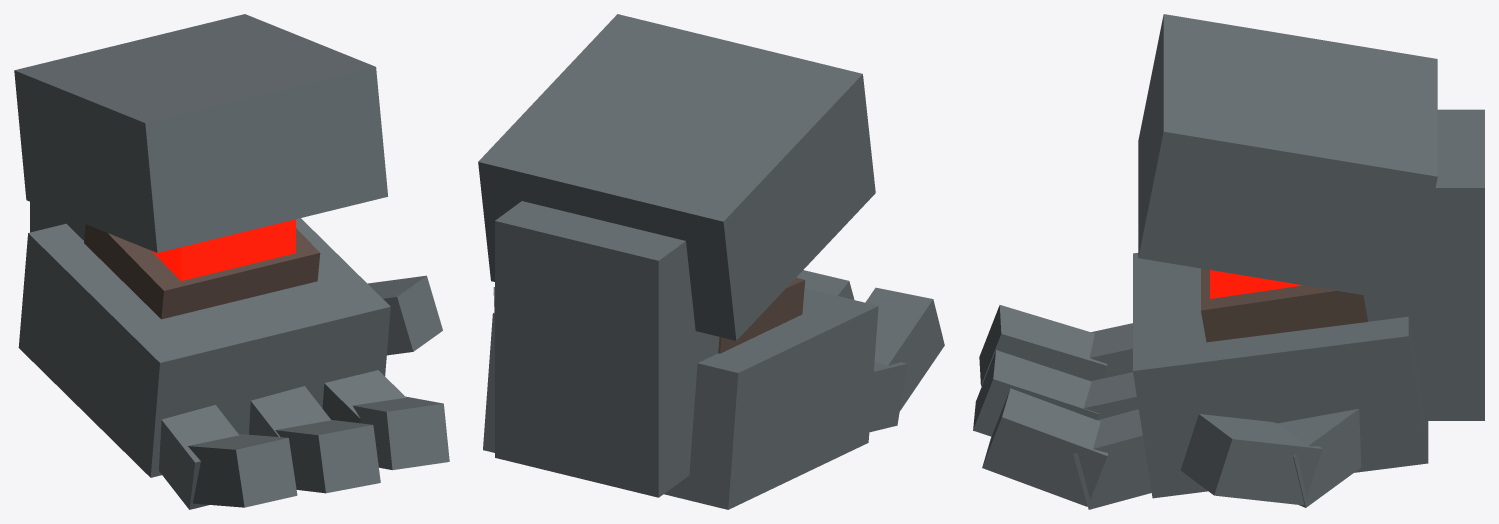
Rendered from shellhand.glb.
3 views of the same model, side by side, from view 1: azimuth 30°, elevation 25°; view 2: azimuth 150°, elevation 25°; view 3: azimuth 270°, elevation 25° (orthographic). The views are drawn at different scales.
Visible parts, largest first — view 1: Cube, Cube.002, Cube.003, Cube.009, Cube.013, Cube.007, Cube.001, Cube.008, Cube.011, Cube.012, Cube.006, Cube.005; view 2: Cube, Cube.005, Cube.002, Cube.009, Cube.008, Cube.003, Cube.013; view 3: Cube, Cube.002, Cube.005, Cube.011, Cube.007, Cube.003, Cube.009, Cube.013, Cube.006, Cube.010, Cube.012, Cube.008 (+1 smaller).
Boxes of the visible parts, x1,y1,x2,y2 form: Cube: (14,14,387,252); Cube.002: (18,218,390,477); Cube.003: (84,224,320,319); Cube.009: (188,434,297,507); Cube.013: (275,420,380,493); Cube.007: (353,396,449,470); Cube.001: (151,219,295,280); Cube.008: (159,405,238,509); Cube.011: (367,275,442,355); Cube.012: (249,386,330,437); Cube.006: (322,370,405,423); Cube.005: (30,202,85,240); Cube: (478,14,875,340); Cube.005: (495,201,719,497); Cube.002: (483,288,878,509); Cube.009: (865,287,944,411); Cube.008: (869,362,906,432); Cube.003: (718,277,805,353); Cube.013: (796,270,854,299); Cube: (1138,14,1437,303); Cube.002: (1133,253,1428,498); Cube.005: (1363,109,1484,420); Cube.011: (1180,414,1322,505); Cube.007: (982,388,1108,506); Cube.003: (1201,268,1367,342); Cube.009: (979,305,1107,386); Cube.013: (973,350,1099,436); Cube.006: (1073,409,1151,509); Cube.010: (1277,409,1361,507); Cube.012: (1084,372,1138,420); Cube.008: (1089,323,1132,378).
Size of the model in its own units: 3.83 by 4.14 by 5.05.
